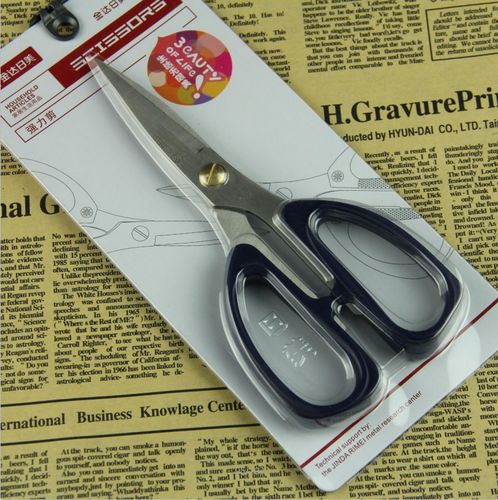scissor: (91, 54, 465, 424)
